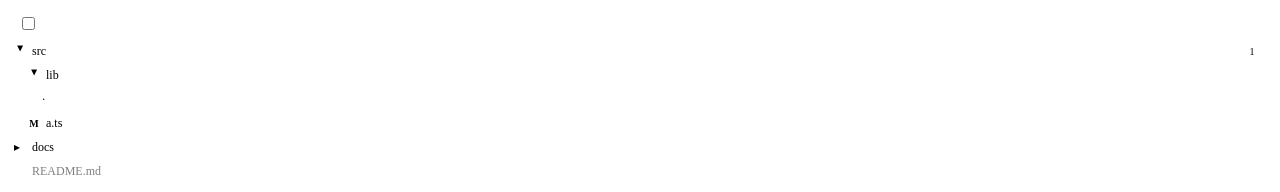
FileTreePane — context menu lifecycle › closes when the tree scrolls
Step 1. Right-click the list item "▸ src 1" → (20,48), box [14,44,1254,58]
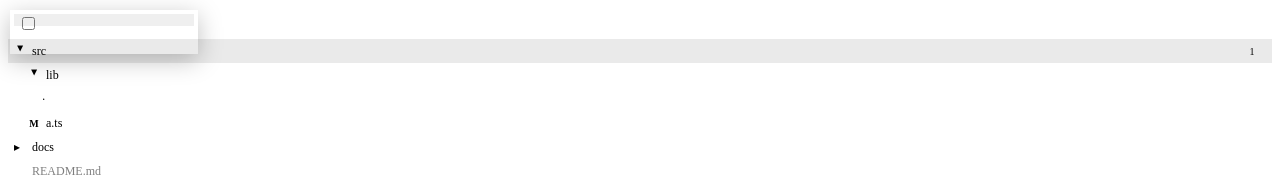
Expected: the menu is shown, [10,10,198,54]
